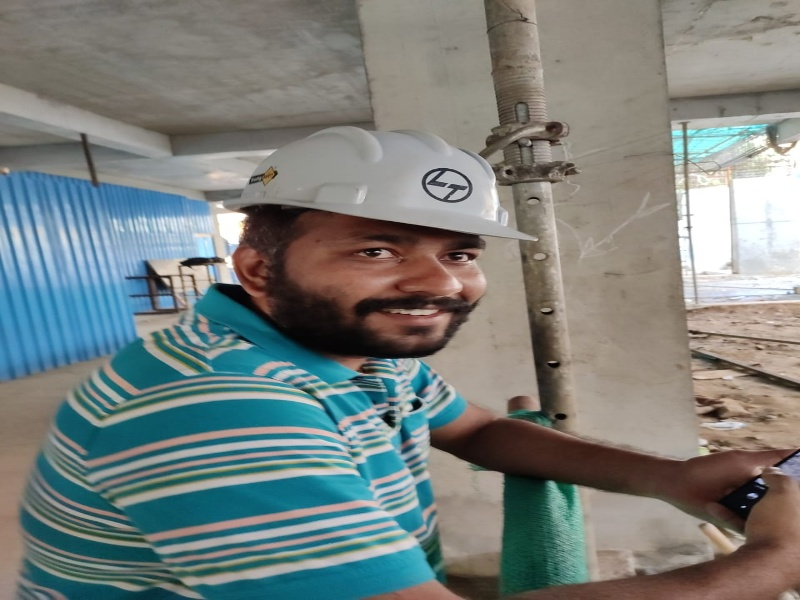Face: (220, 117, 538, 237)
